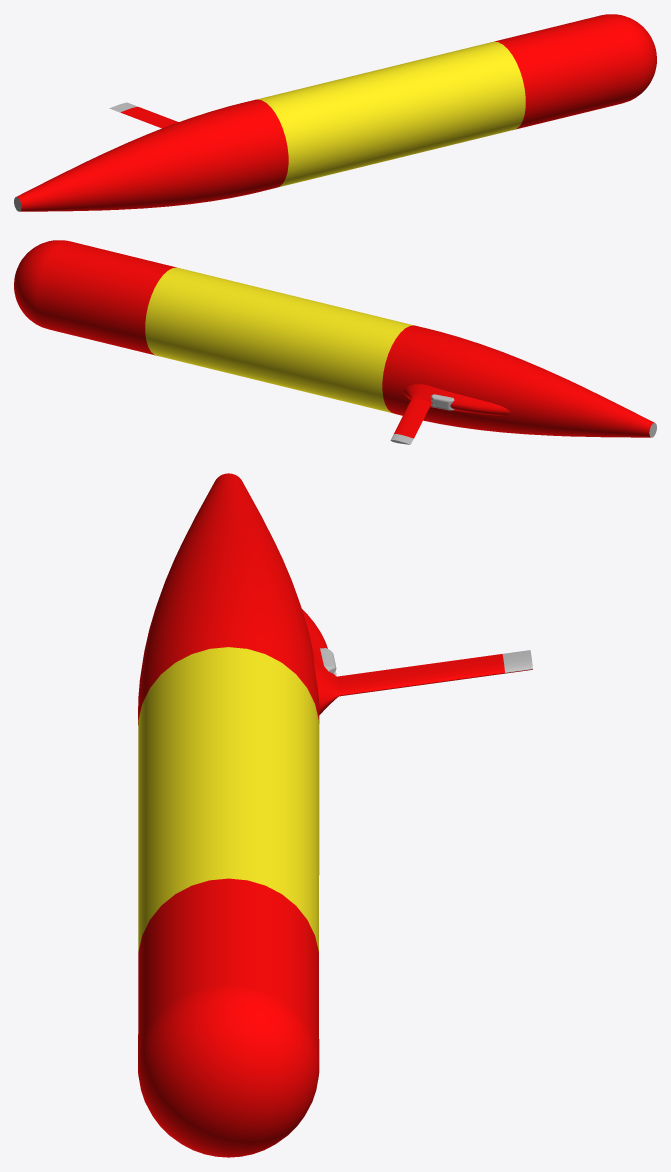
Rendered from auv_body.gltf.
3 views of the same model, one above another, from view 1: azimuth 30°, elevation 25°; view 2: azimuth 150°, elevation 25°; view 3: azimuth 270°, elevation 25° (orthographic). The views are drawn at different scales.
Parts seen in each view (by area): view 1: LRAUV_Lite; view 2: LRAUV_Lite; view 3: LRAUV_Lite.
Part boxes in pixels (x1,y1,x2,y2): LRAUV_Lite: (14,14,656,211); LRAUV_Lite: (14,240,656,444); LRAUV_Lite: (138,473,532,1157).
Size of the model in its own units: 2.45 by 0.3048 by 0.6626.
